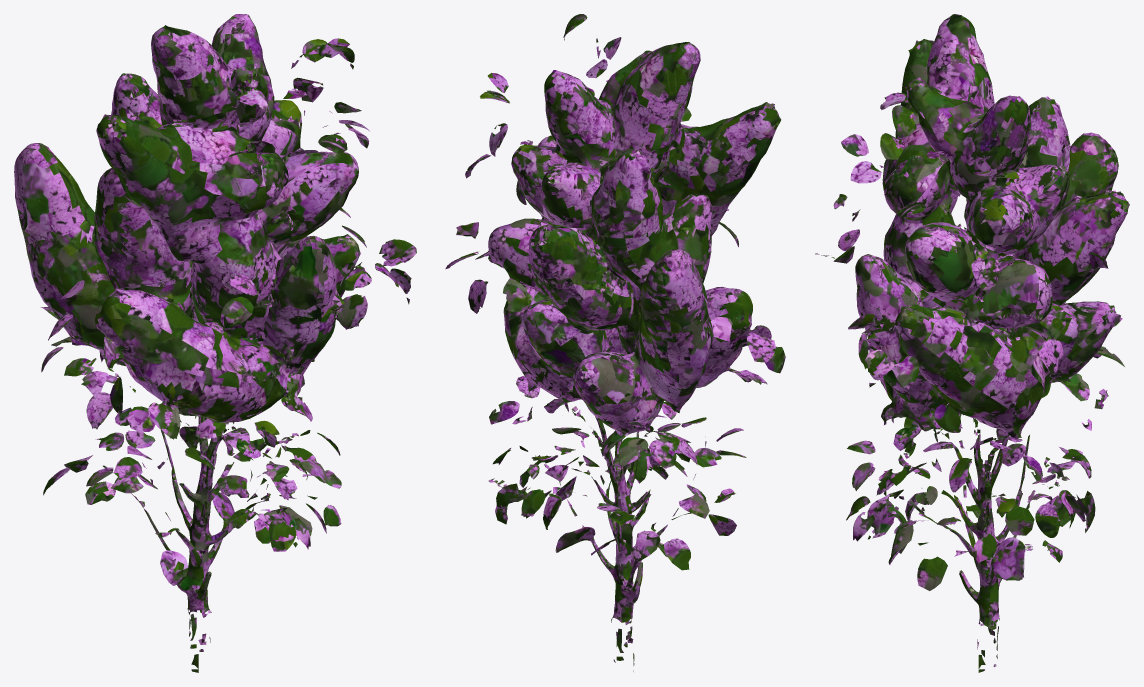
Rendered from veg_shrub_lilac_01.obj.
The picture shows the model from 3 angles, left to right: view 1: azimuth 30°, elevation 25°; view 2: azimuth 150°, elevation 25°; view 3: azimuth 270°, elevation 25°; orthographic projection. The views are drawn at different scales.
Parts seen in each view (by area): view 1: veg_shrub_lilac_01; view 2: veg_shrub_lilac_01; view 3: veg_shrub_lilac_01.
Part boxes in pixels (left/top/right/bottom): veg_shrub_lilac_01: left=14, top=14, right=416, bottom=672; veg_shrub_lilac_01: left=445, top=14, right=785, bottom=671; veg_shrub_lilac_01: left=815, top=14, right=1129, bottom=672.
Size of the model in its own units: 3.16 by 6.25 by 2.8.
Materials: 1 (1 with a texture image).
